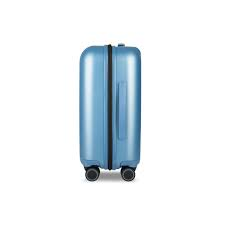suitcase: (77, 42, 143, 183)
